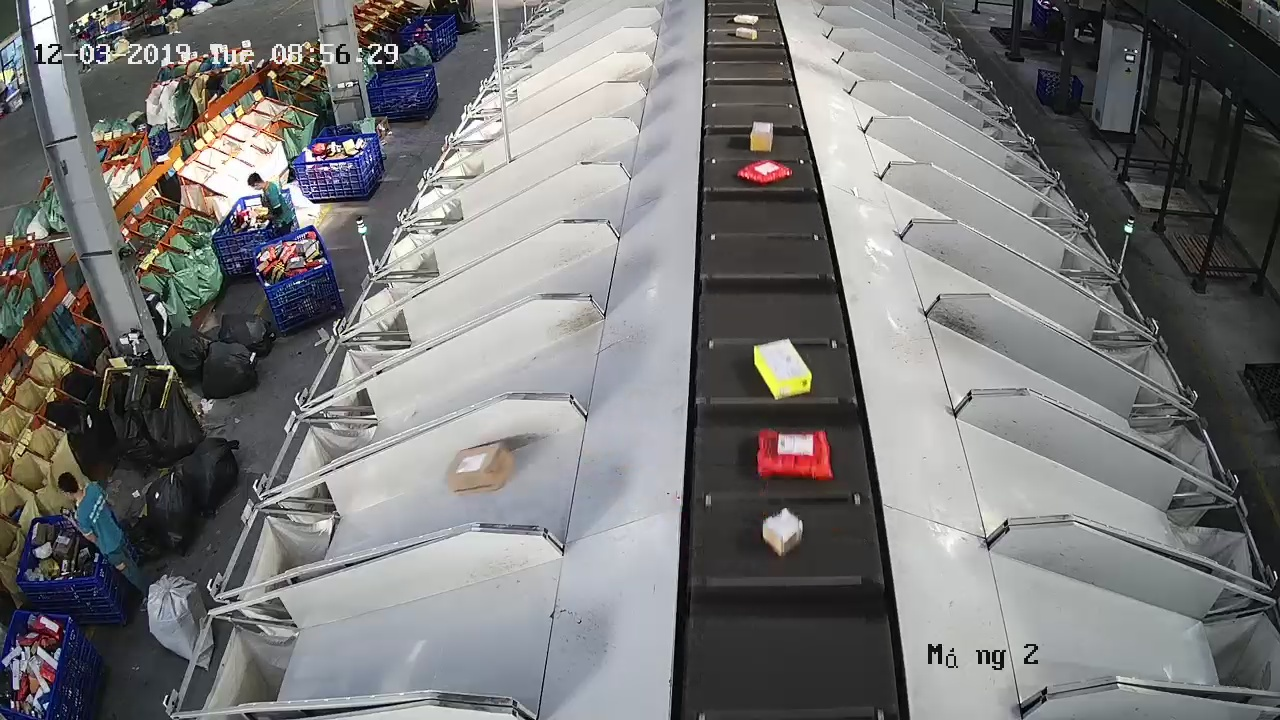parcel: (755, 427, 835, 483), (752, 336, 814, 401), (445, 439, 514, 497), (760, 506, 805, 558), (736, 159, 793, 187)
